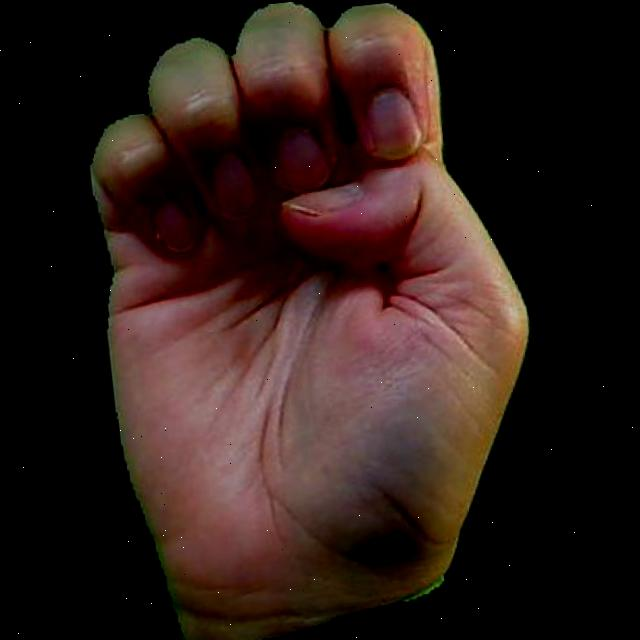e: (67, 0, 568, 640)
